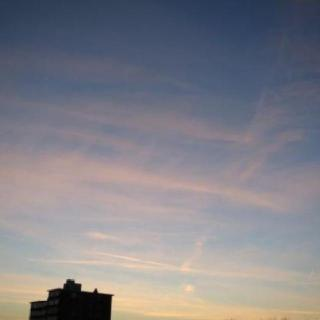Contrails: (0, 34, 320, 283)
